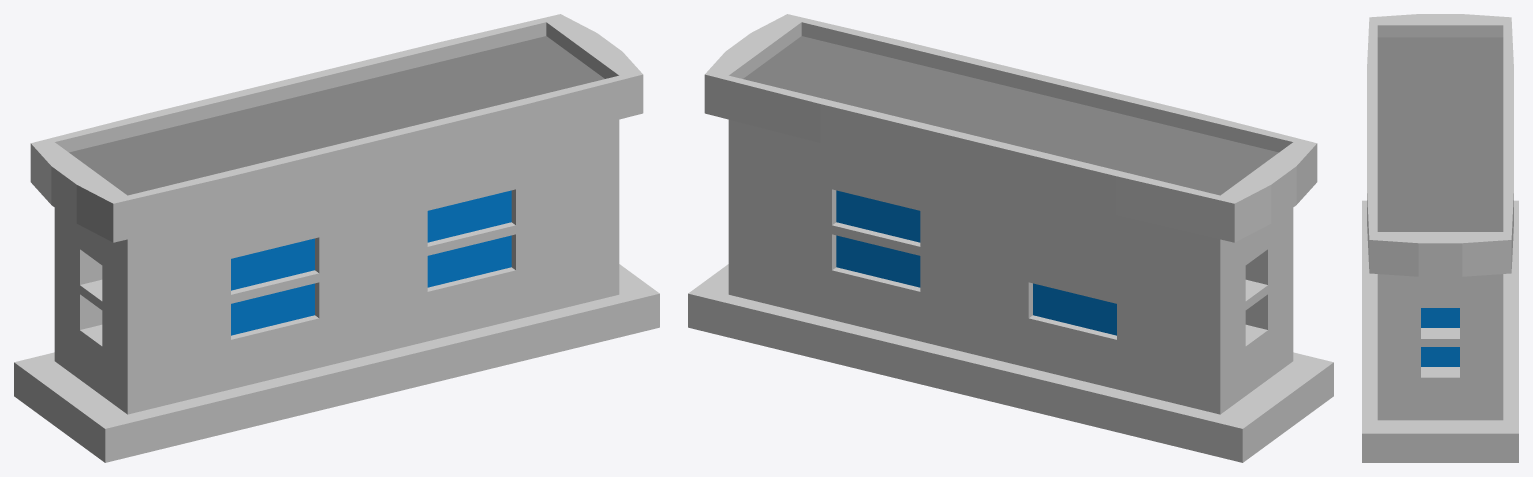
The picture shows the model from 3 angles, left to right: view 1: azimuth 30°, elevation 25°; view 2: azimuth 150°, elevation 25°; view 3: azimuth 270°, elevation 25°; orthographic projection. The views are drawn at different scales.
Parts seen in each view (by area): view 1: Cube.007; view 2: Cube.007; view 3: Cube.007.
Boxes of the visible parts, left/top/right/bottom form: Cube.007: left=14, top=14, right=659, bottom=462; Cube.007: left=688, top=14, right=1333, bottom=462; Cube.007: left=1362, top=14, right=1518, bottom=462.
Bounding box in the file's own units: 520 × 227 × 148.
